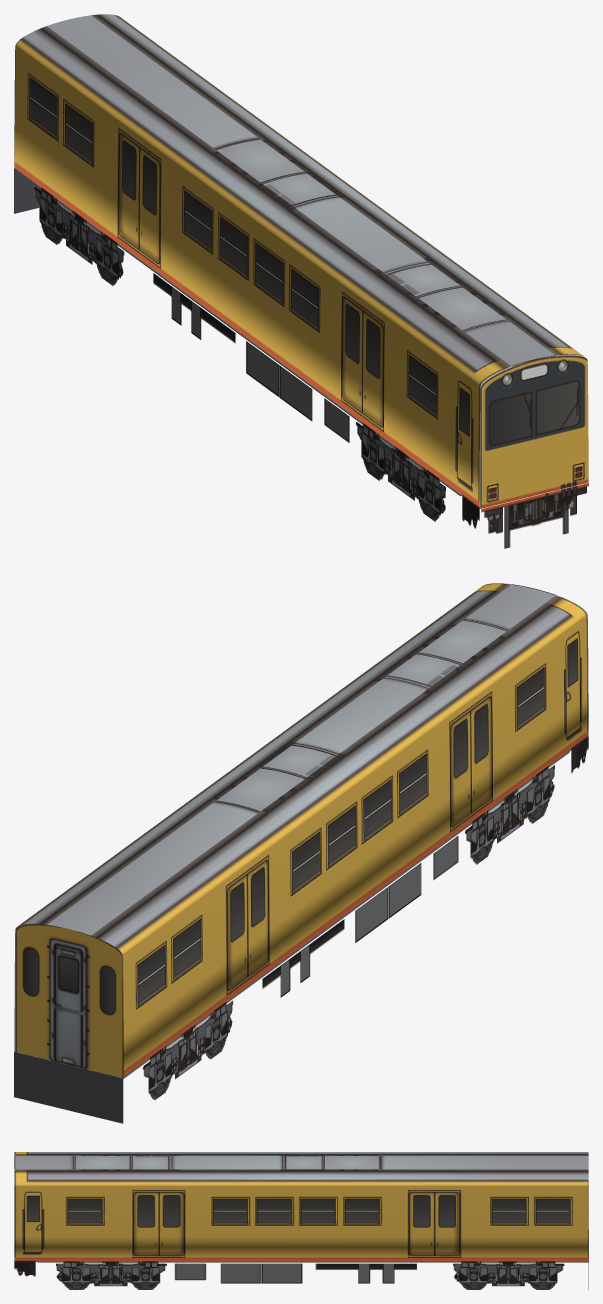
The model's file is car1.glb.
The picture shows the model from 3 angles, top to bottom: view 1: azimuth 30°, elevation 25°; view 2: azimuth 150°, elevation 25°; view 3: azimuth 270°, elevation 25°; orthographic projection. The views are drawn at different scales.
Parts seen in each view (by area): view 1: sangi-270-car1; view 2: sangi-270-car1; view 3: sangi-270-car1.
Boxes of the visible parts, bbox=[...] form: sangi-270-car1: bbox=[14, 14, 588, 548]; sangi-270-car1: bbox=[14, 583, 588, 1123]; sangi-270-car1: bbox=[14, 1152, 588, 1289].
Bounding box in the file's own units: 2.11 × 3.35 × 15.63.
Materials: 8 (7 with a texture image).
